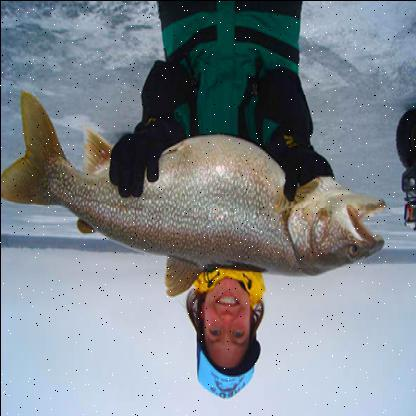fish: (1, 87, 385, 298)
